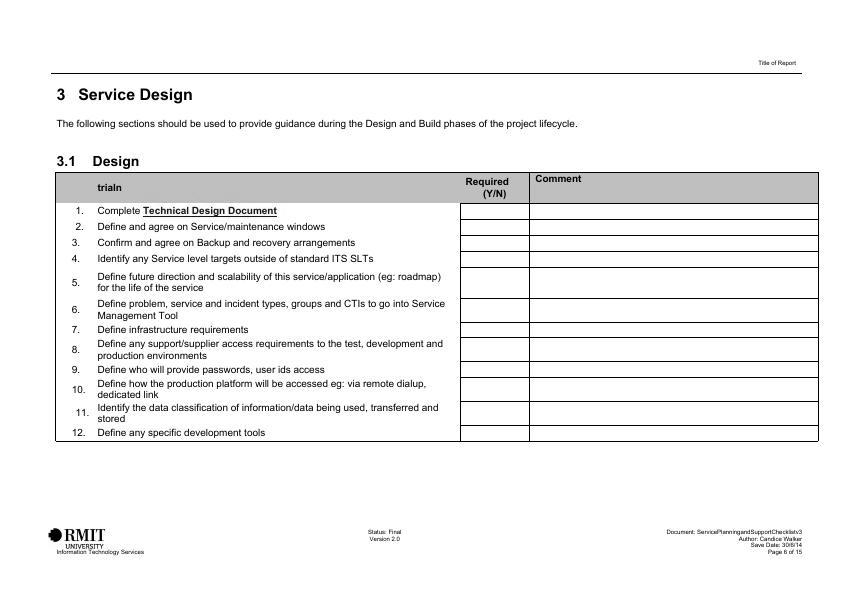table: (53, 170, 822, 445)
text: (50, 84, 581, 135), (664, 526, 807, 557), (54, 154, 141, 169), (360, 524, 405, 544)
